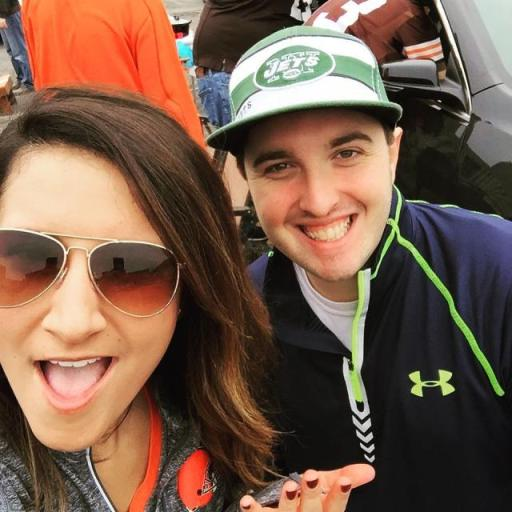Under Armour: (405, 364, 456, 400)
